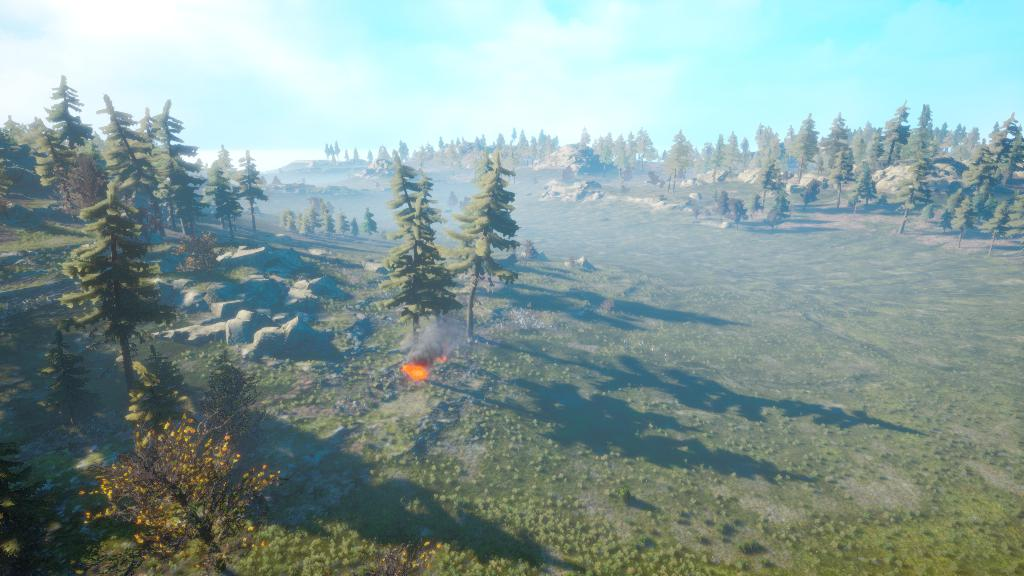Fire: (393, 360, 431, 386)
smoke: (405, 308, 472, 369)
